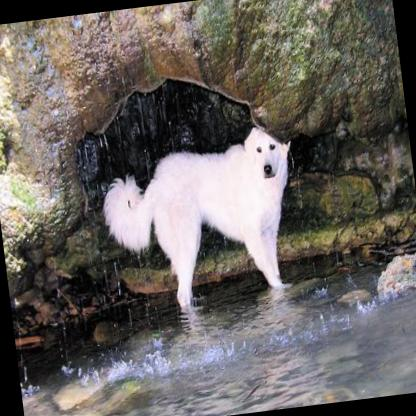kuvasz: (95, 119, 312, 335)
